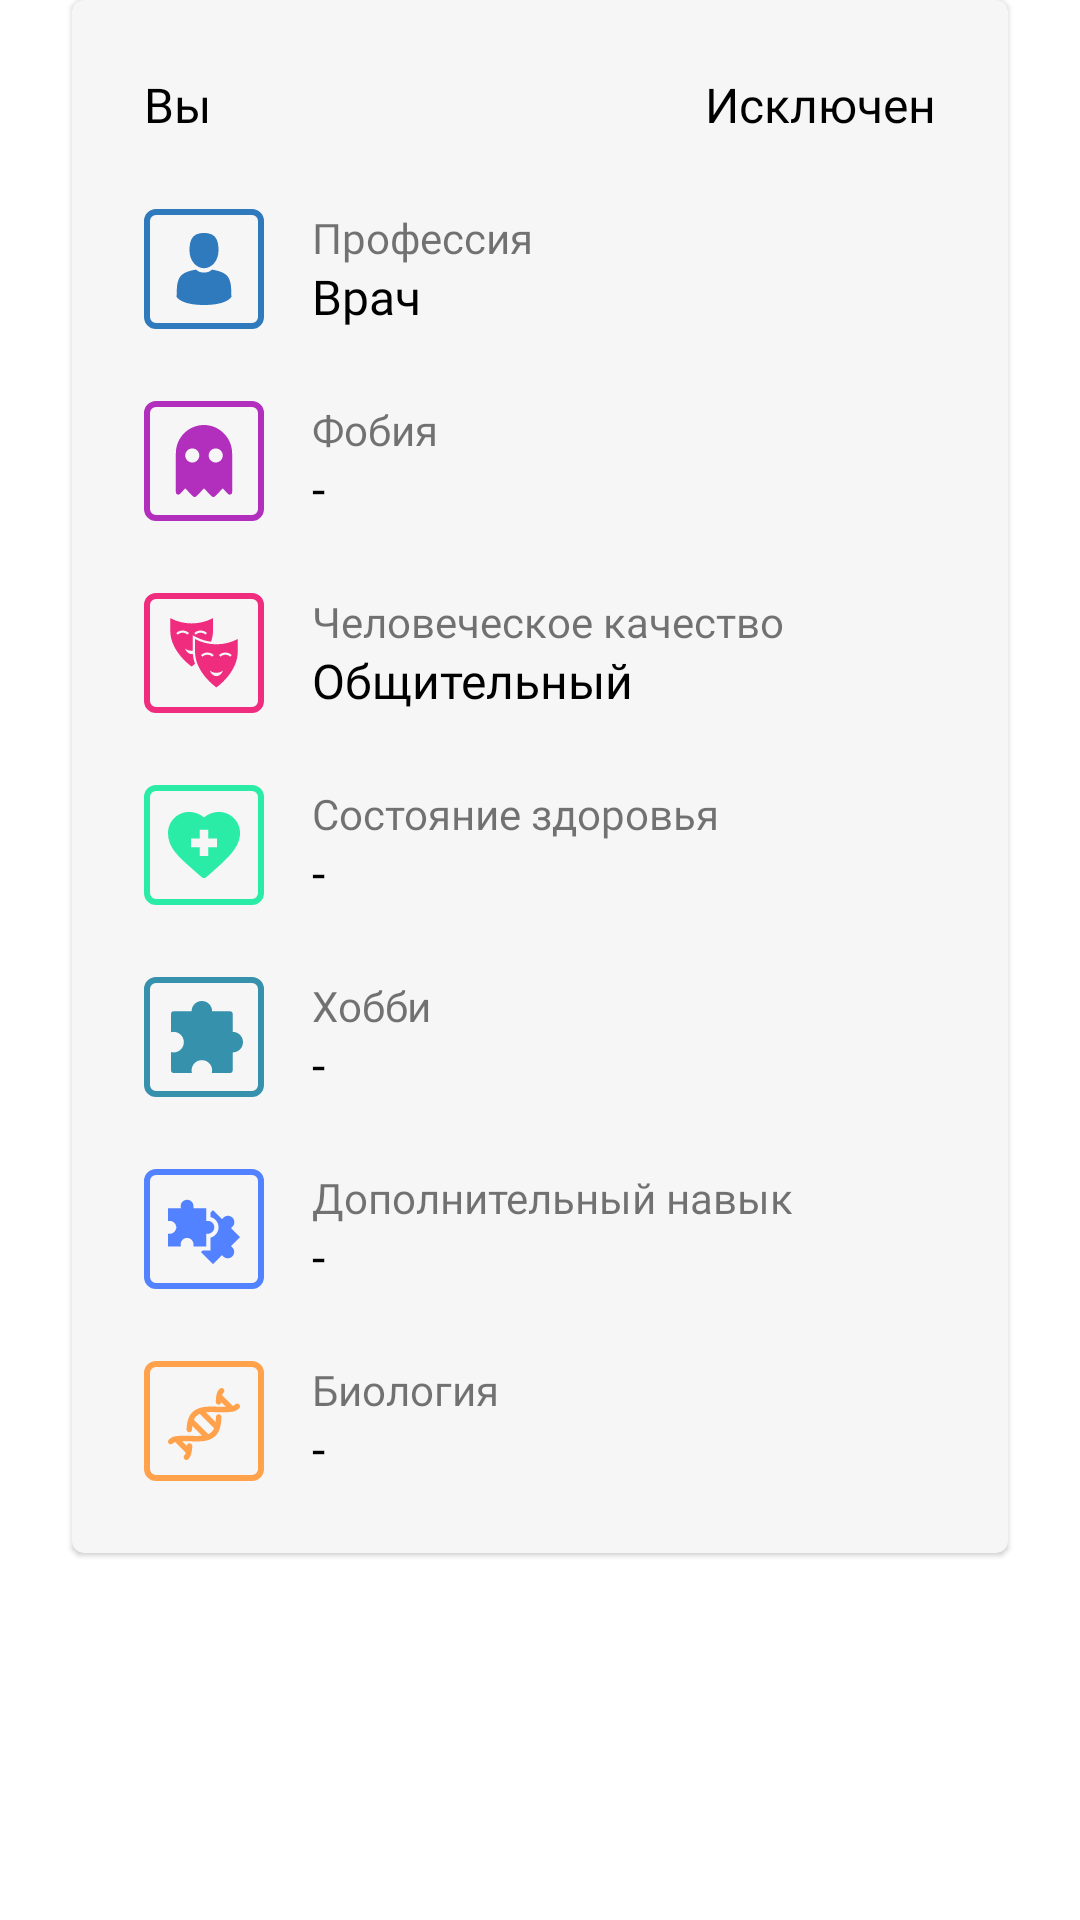

Locate icon controls on the screen. Image size 1080×1920, boxes as [left=x1, top=y1, right=x2, bottom=y2].
biology: [left=144, top=1361, right=264, bottom=1481]
characteristics: [left=144, top=593, right=264, bottom=713]
health: [left=144, top=785, right=264, bottom=905]
hobbies: [left=144, top=977, right=264, bottom=1097]
knowledge: [left=144, top=1169, right=264, bottom=1289]
